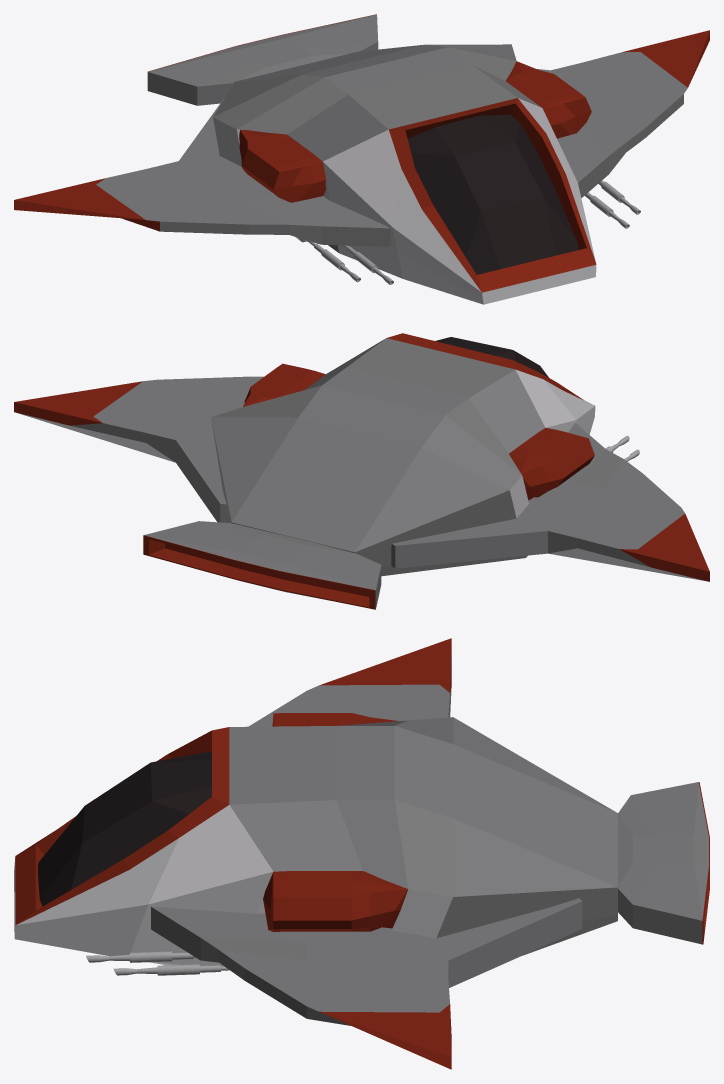
The model's file is enemy ship 1.fbx.
3 views of the same model, one above another, from view 1: azimuth 30°, elevation 25°; view 2: azimuth 150°, elevation 25°; view 3: azimuth 270°, elevation 25° (orthographic). The views are drawn at different scales.
Visible parts, largest first — view 1: Mainframe, Wing 2, Window, Wing 1, Back part, Side support 2, Side support; view 2: Mainframe, Wing 2, Wing 1, Back part, Side support 2, Side support, Window; view 3: Mainframe, Wing 1, Back part, Window, Wing 2, Side support, Side support 2, Cannon 2, Cannon.
Part boxes in pixels (x1=…): Mainframe: x1=213, y1=44, x2=596, y2=304; Wing 2: x1=14, y1=98, x2=390, y2=246; Window: x1=407, y1=114, x2=578, y2=274; Wing 1: x1=537, y1=30, x2=709, y2=197; Back part: x1=147, y1=14, x2=378, y2=105; Side support 2: x1=239, y1=129, x2=326, y2=202; Side support: x1=506, y1=61, x2=591, y2=138; Mainframe: x1=211, y1=333, x2=595, y2=576; Wing 2: x1=391, y1=423, x2=709, y2=581; Wing 1: x1=14, y1=376, x2=263, y2=522; Back part: x1=143, y1=521, x2=381, y2=609; Side support 2: x1=509, y1=428, x2=594, y2=500; Side support: x1=243, y1=363, x2=325, y2=406; Window: x1=435, y1=337, x2=548, y2=377; Mainframe: x1=14, y1=717, x2=617, y2=966; Wing 1: x1=151, y1=898, x2=582, y2=1069; Back part: x1=618, y1=782, x2=709, y2=944; Window: x1=38, y1=752, x2=211, y2=906; Wing 2: x1=249, y1=638, x2=451, y2=726; Side support: x1=263, y1=871, x2=407, y2=931; Side support 2: x1=272, y1=713, x2=398, y2=726; Cannon 2: x1=113, y1=964, x2=229, y2=975; Cannon: x1=86, y1=951, x2=195, y2=962.
Size of the model in its own units: 1177 by 219 by 826.
